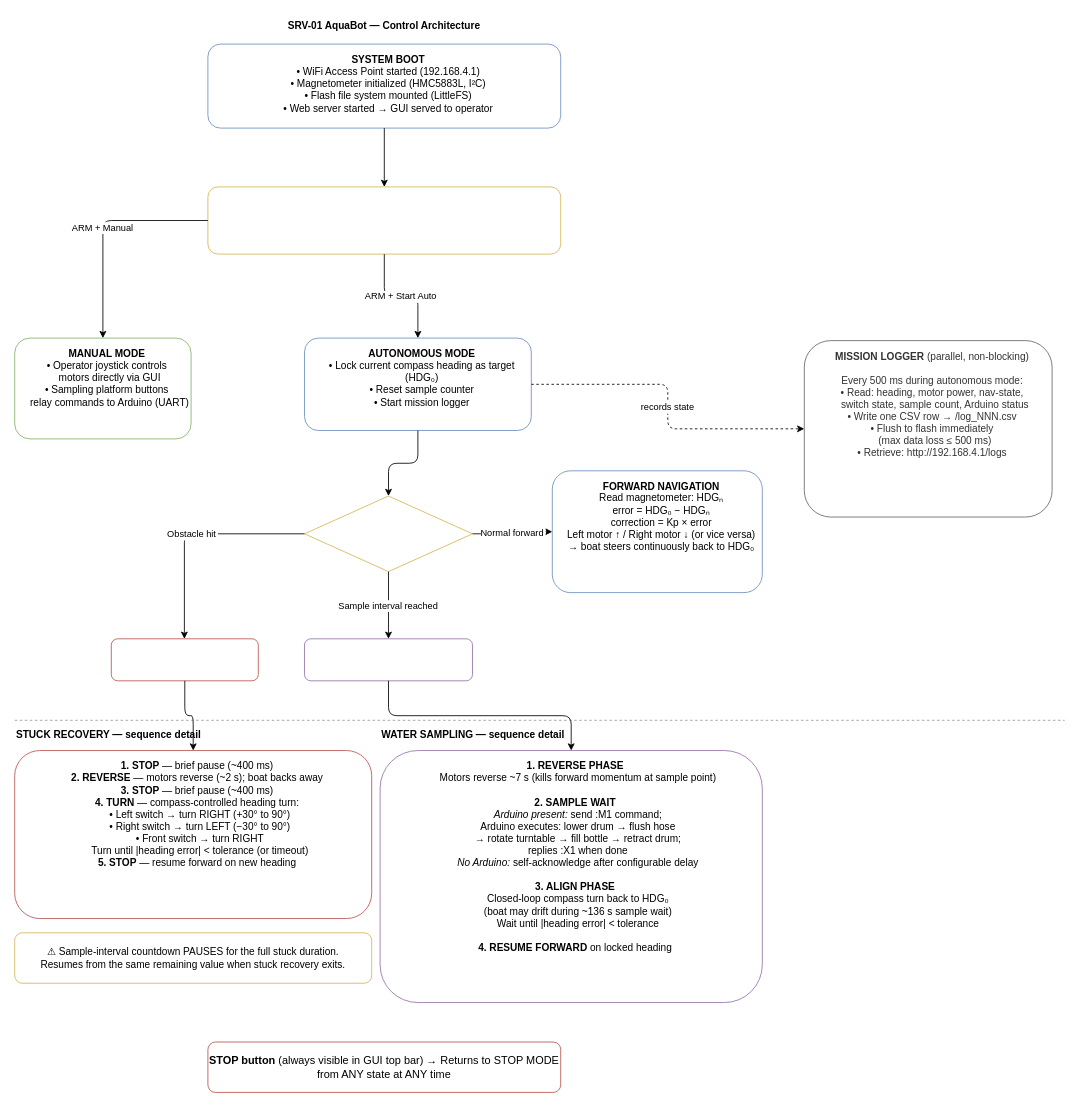
The diagram is 1080 pixels wide and 1107 high, and some of its shapes have lost their labels. The shapes that lost their labels are listed below. From the top down, each one's centre as x and y in pixels, then its label:
At point 384,220: "STOP MODE (default) • All motors off • Operator must ARM ESCs before any motion".
At point 388,533: "PRIORITY DECISION (every ~5 ms)".
At point 184,659: "STUCK RECOVERY".
At point 388,659: "WATER SAMPLING".
